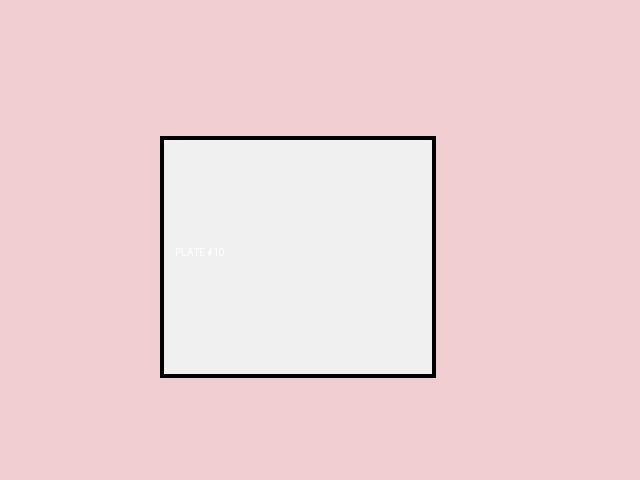plate: (160, 136, 435, 377)
